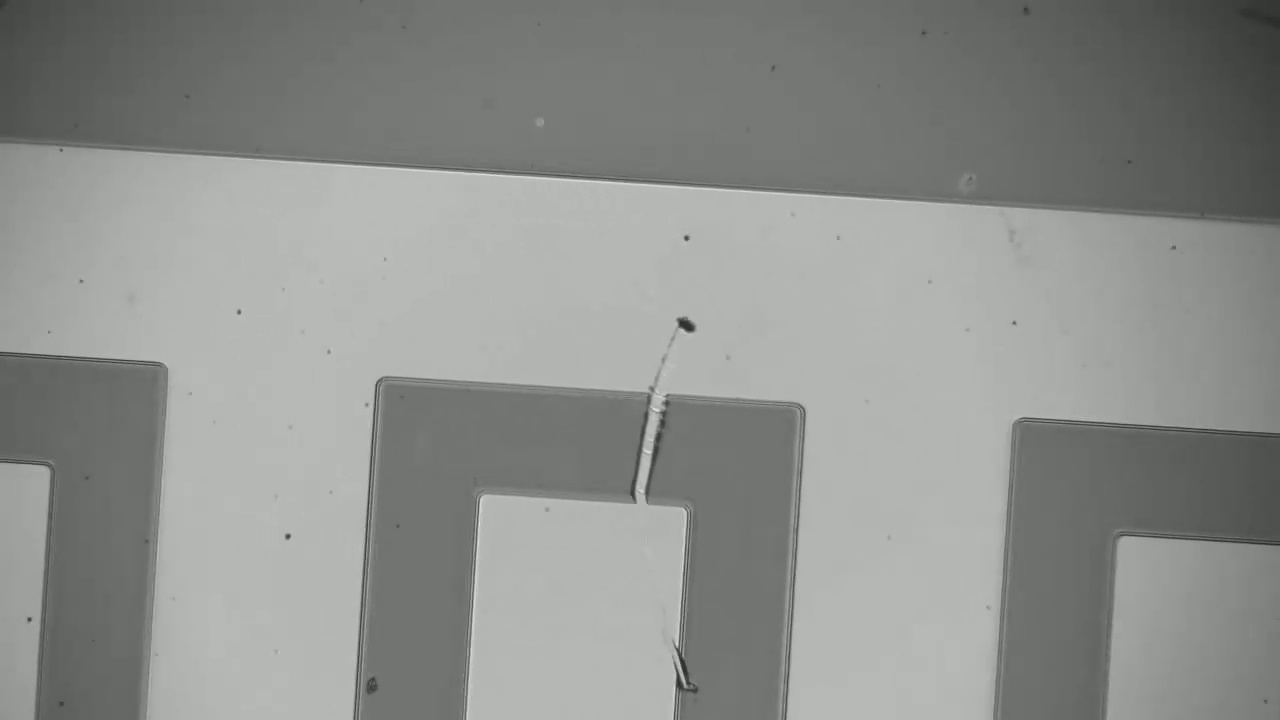Short_circuit: (603, 365, 687, 527)
